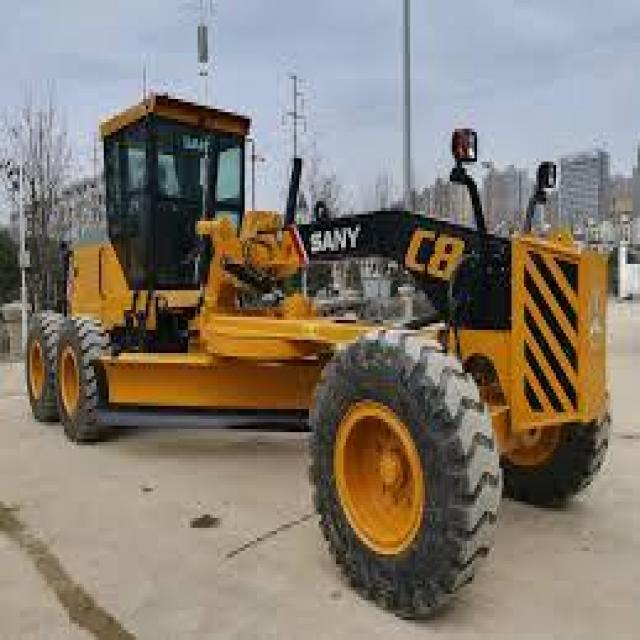Grader: (20, 66, 618, 614)
